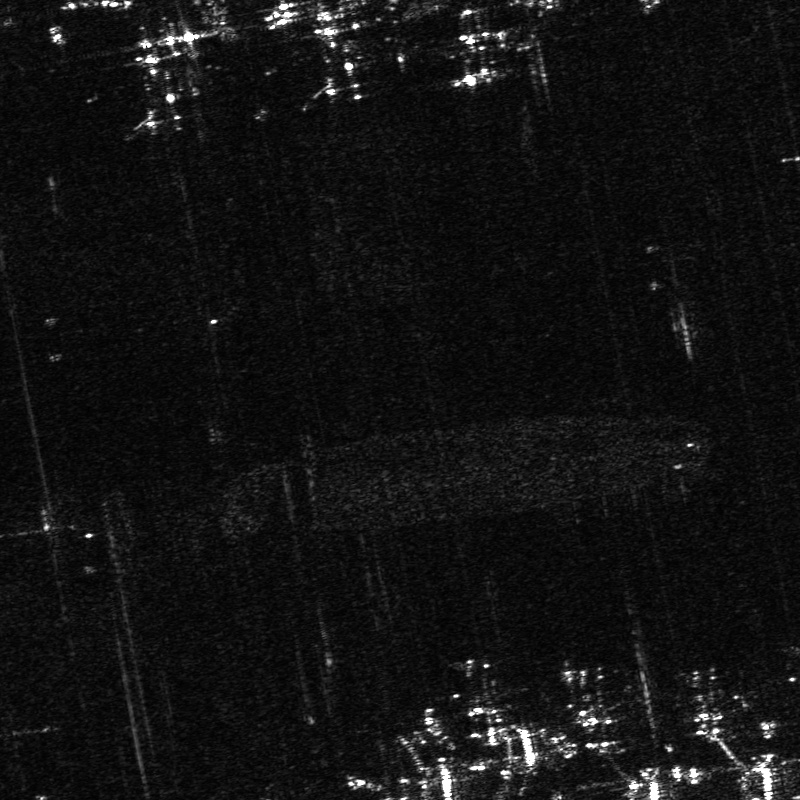A220: (445, 657, 533, 745), (556, 664, 638, 755), (672, 661, 753, 745)
other: (94, 33, 240, 137), (267, 7, 407, 111), (439, 1, 520, 87)
